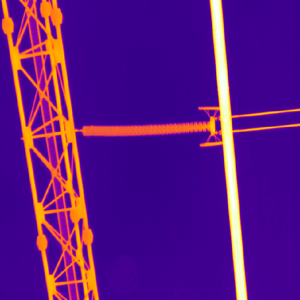insulator: (80, 121, 213, 138)
